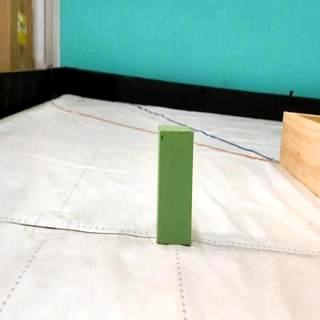greenbox: (158, 125, 192, 245)
